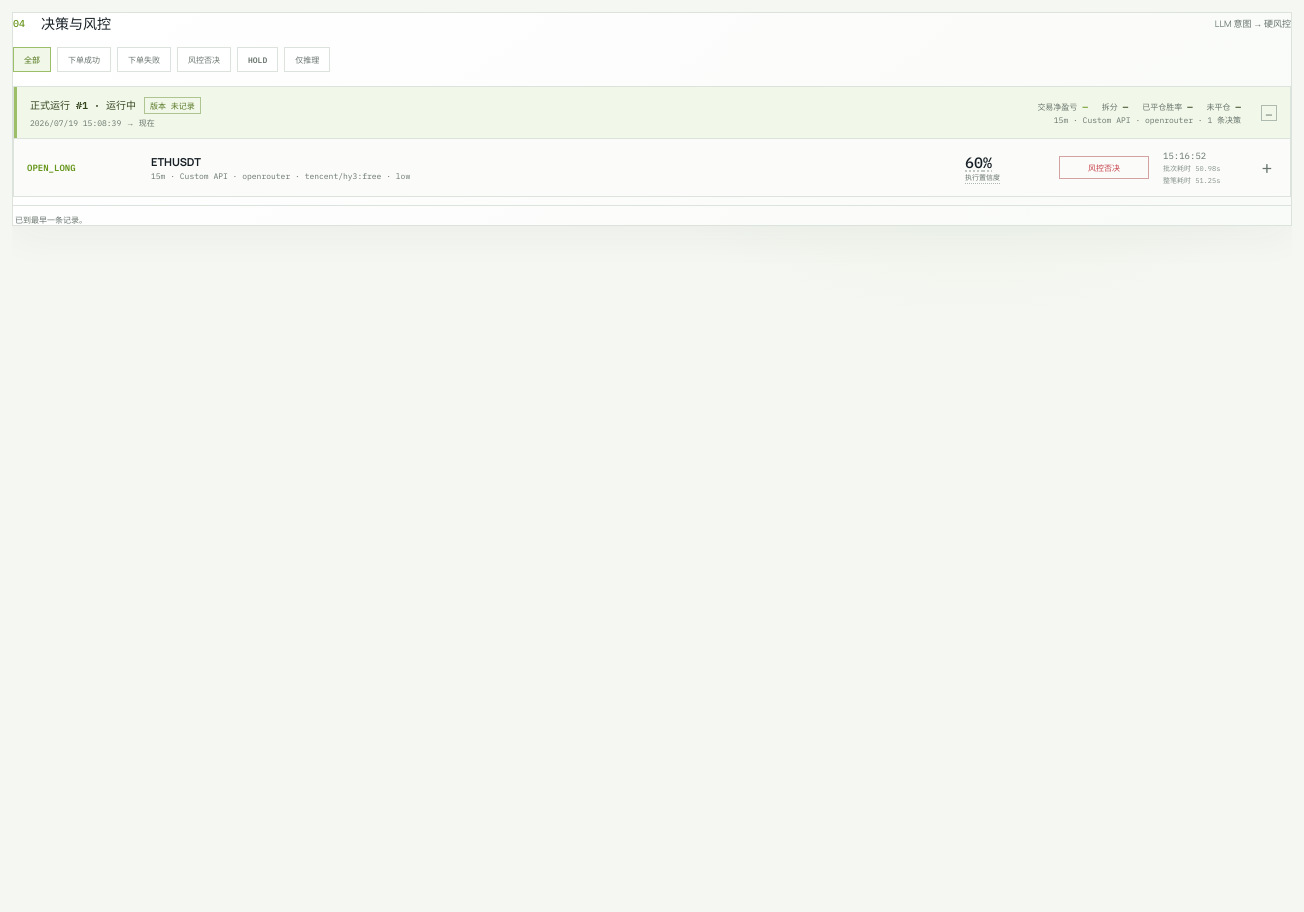
Test: DecisionPanel › shows take-profit reentry windows as shadow-only evidence
This screenshot has width=1304, height=912.
Step 1. Click the button "OPEN_LONG" → (51, 168), box top-left (14, 139), bottom-right (1290, 196)
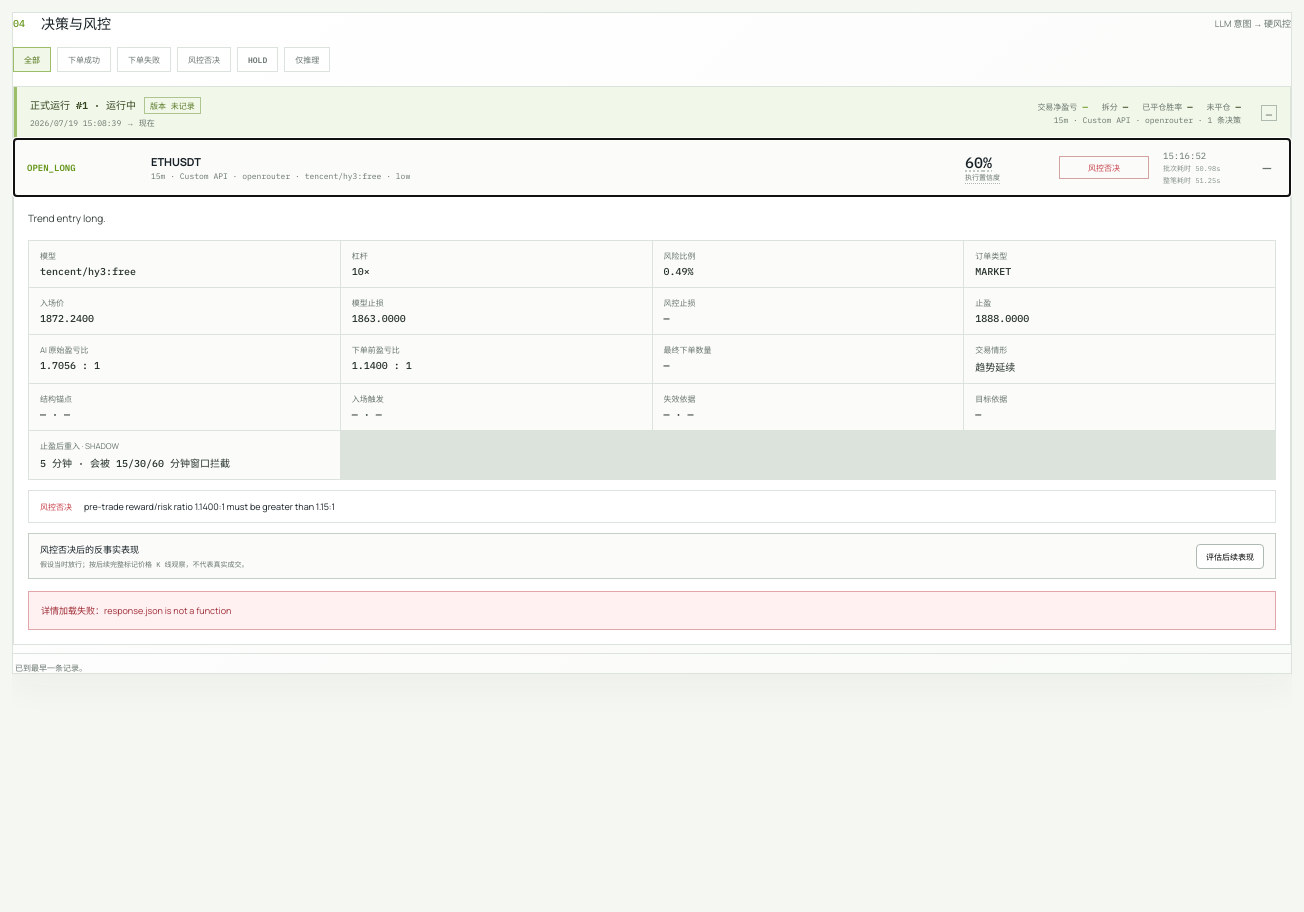
Now the text "止盈后重入 · SHADOW" is shown, box top-left (40, 440), bottom-right (119, 451)
Now the text "5 分钟 · 会被 15/30/60 分钟窗口拦截" is shown, box top-left (40, 457), bottom-right (230, 470)
